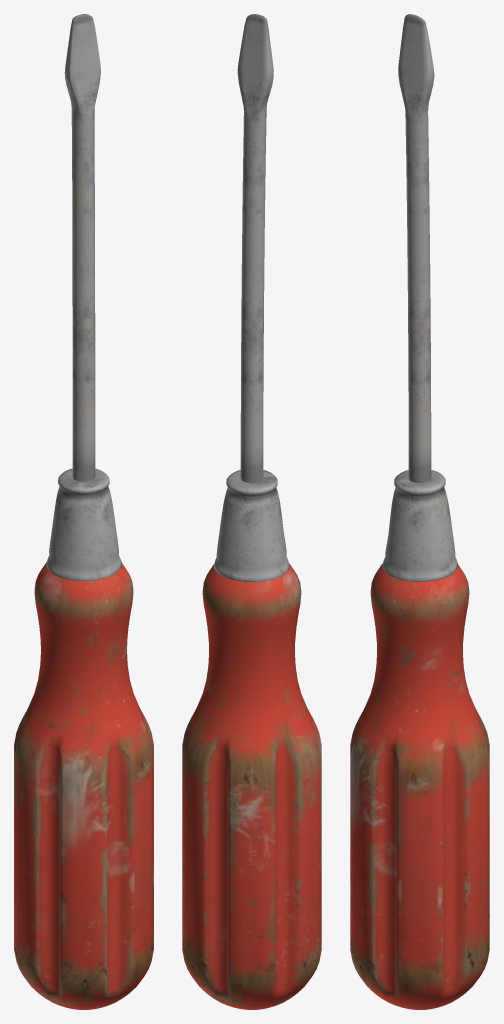
The model's file is screwdriver.glb.
3 views of the same model, side by side, from view 1: azimuth 30°, elevation 25°; view 2: azimuth 150°, elevation 25°; view 3: azimuth 330°, elevation 25° (orthographic).
Visible parts, largest first — view 1: screwdriver; view 2: screwdriver; view 3: screwdriver.
Part boxes in pixels (box(x1,y1,x2,y2)): screwdriver: box(14, 14, 153, 1009); screwdriver: box(182, 14, 321, 1009); screwdriver: box(350, 14, 489, 1009).
Size of the model in its own units: 0.0271 by 0.209 by 0.0267.
Materials: 1 (1 with a texture image).
